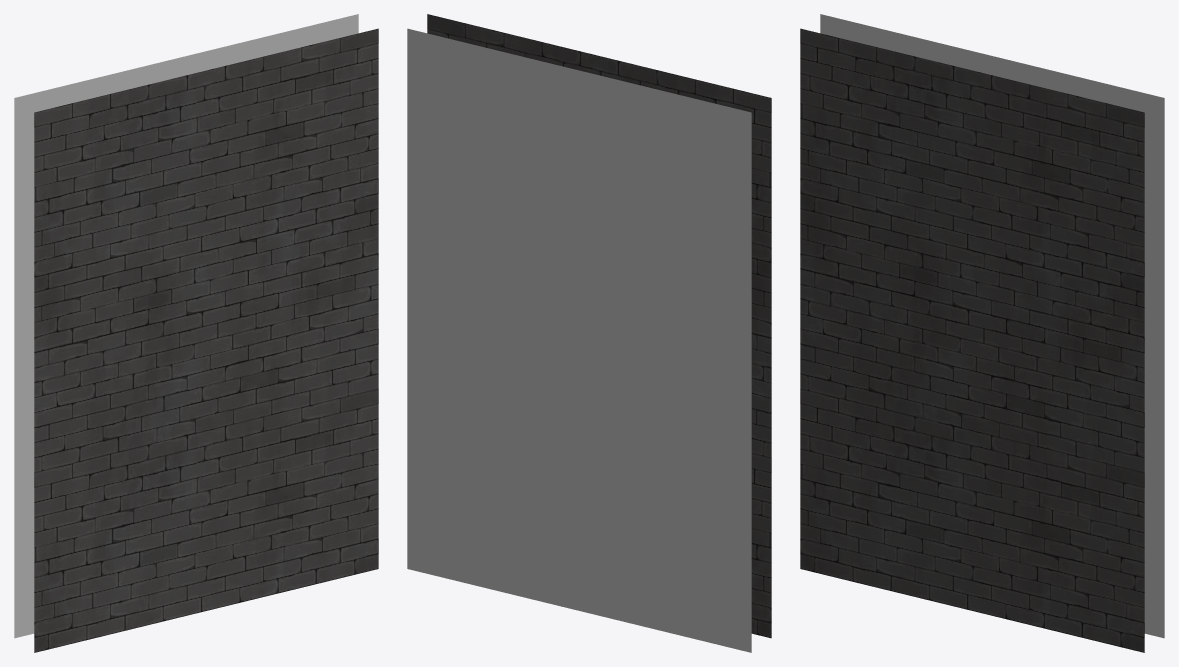
File: WornBrick_Plain_3.gltf
3 views of the same model, side by side, from view 1: azimuth 30°, elevation 25°; view 2: azimuth 150°, elevation 25°; view 3: azimuth 330°, elevation 25° (orthographic).
Parts seen in each view (by area): view 1: WornBrick_Plain_3; view 2: WornBrick_Plain_3; view 3: WornBrick_Plain_3.
Part boxes in pixels (<box>): WornBrick_Plain_3: <box>14,14,378,652</box>; WornBrick_Plain_3: <box>407,14,771,652</box>; WornBrick_Plain_3: <box>800,14,1164,652</box>.
Size of what is drawn, in the model's own units: 2 by 3 by 0.2.
